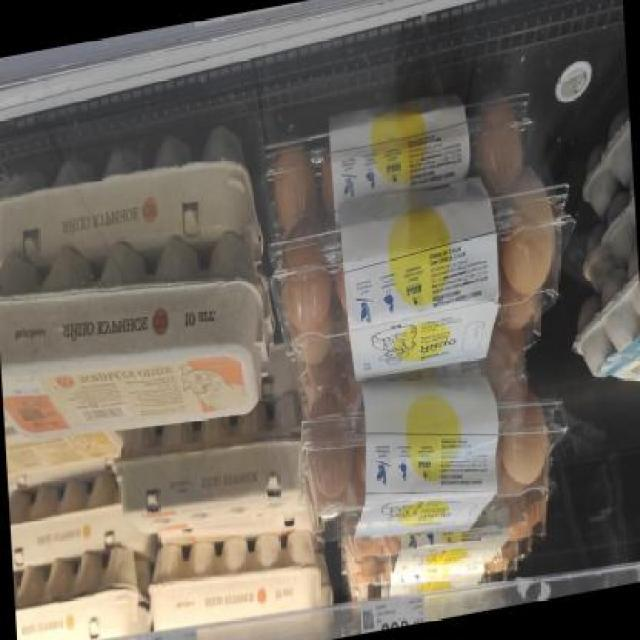egg: (1, 222, 284, 467)
